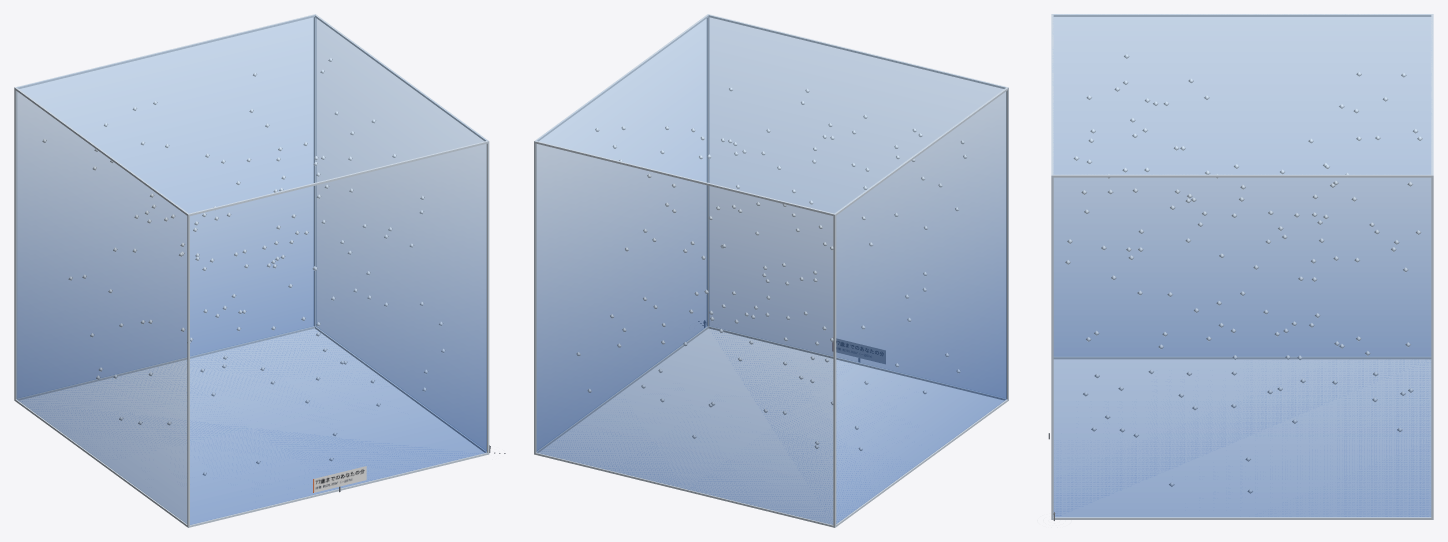
The model's file is cube_life_77.glb.
3 renders of one model, left to right at view 1: azimuth 30°, elevation 25°; view 2: azimuth 150°, elevation 25°; view 3: azimuth 270°, elevation 25°, orthographic. The views are drawn at different scales.
Visible parts, largest first — view 1: co2, edge, dots, label; view 2: co2, edge, dots, label; view 3: co2, edge, dots.
Part boxes in pixels (x1,y1,x2,y2): co2: (16, 15, 486, 524); edge: (14, 14, 489, 527); dots: (42, 58, 445, 475); label: (313, 466, 366, 492); co2: (536, 15, 1006, 524); edge: (534, 14, 1008, 527); dots: (576, 87, 967, 451); label: (832, 338, 885, 363); co2: (1052, 14, 1431, 516); edge: (1051, 14, 1433, 519); dots: (1065, 54, 1422, 493).
Size of the model in its own units: 70.7 by 66.93 by 69.8.
8 materials, 3 textured.
